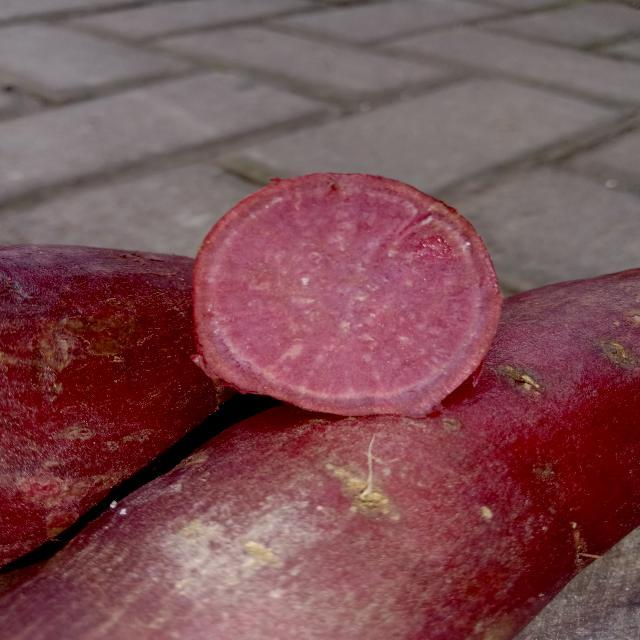Healthy Sweet Potato: (193, 174, 502, 418)
